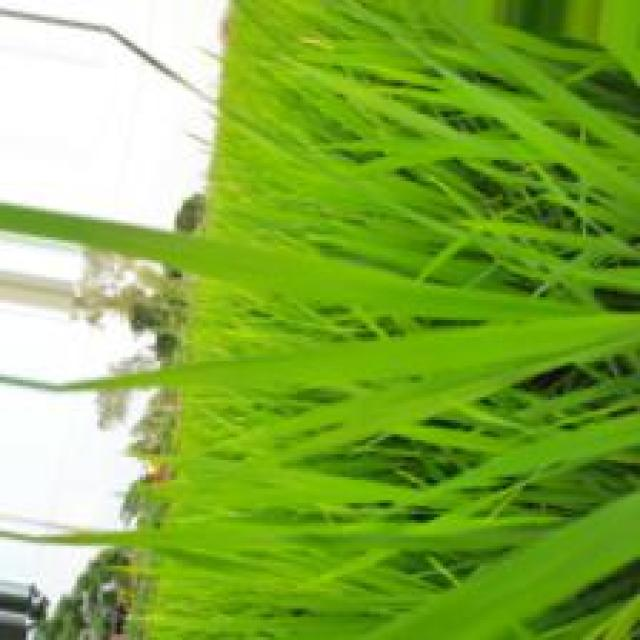HealthyLeaf: (396, 509, 614, 635), (106, 224, 298, 289), (333, 330, 509, 379), (379, 529, 501, 549)
